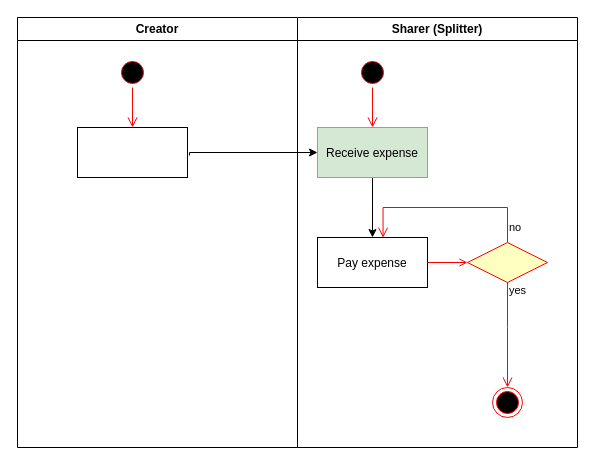
Some shapes in this 595 by 465 pixel diagram are drawn without their labels. Here are the shapes that lost their labels. From the top down, the centre of each, then its label:
pixel 132 152: Create expense
pixel 507 262: pay success
